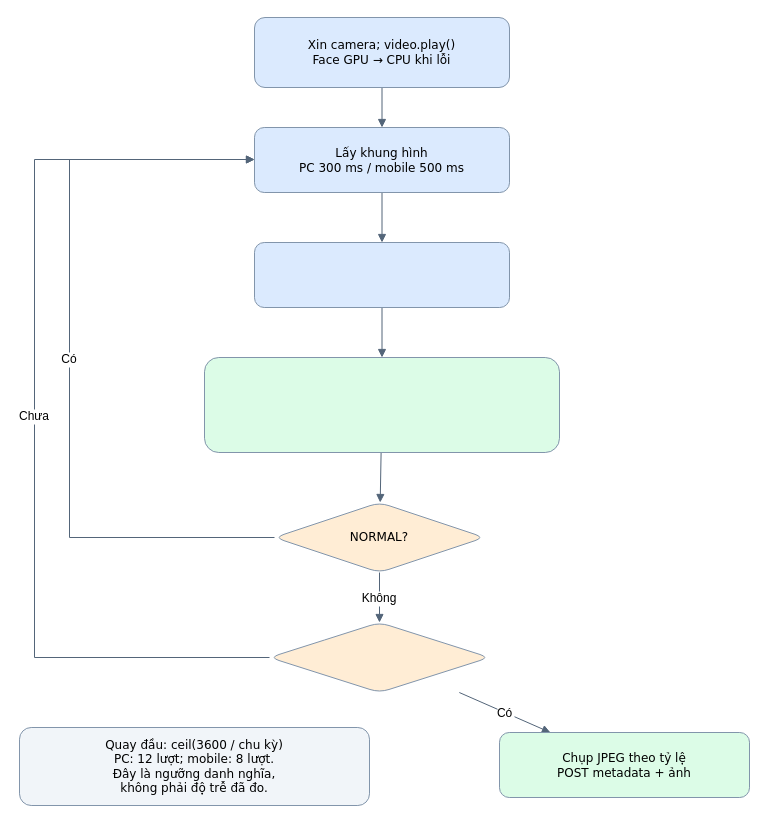
This 767x823 diagram has some shape labels left out. The shapes that lost their labels are listed below. From the top down, each one's centre as x and y in pixels, then its label:
At (382,275): "MediaPipe + độ sáng Mặt, vật thể, điểm mốc".
At (382,404): "Chọn nhãn theo ưu tiên Tối → điện thoại → nhiều mặt → không mặt → quay đầu".
At (379,657): "Đủ cooldown 5 giây cho loại sự kiện?".
